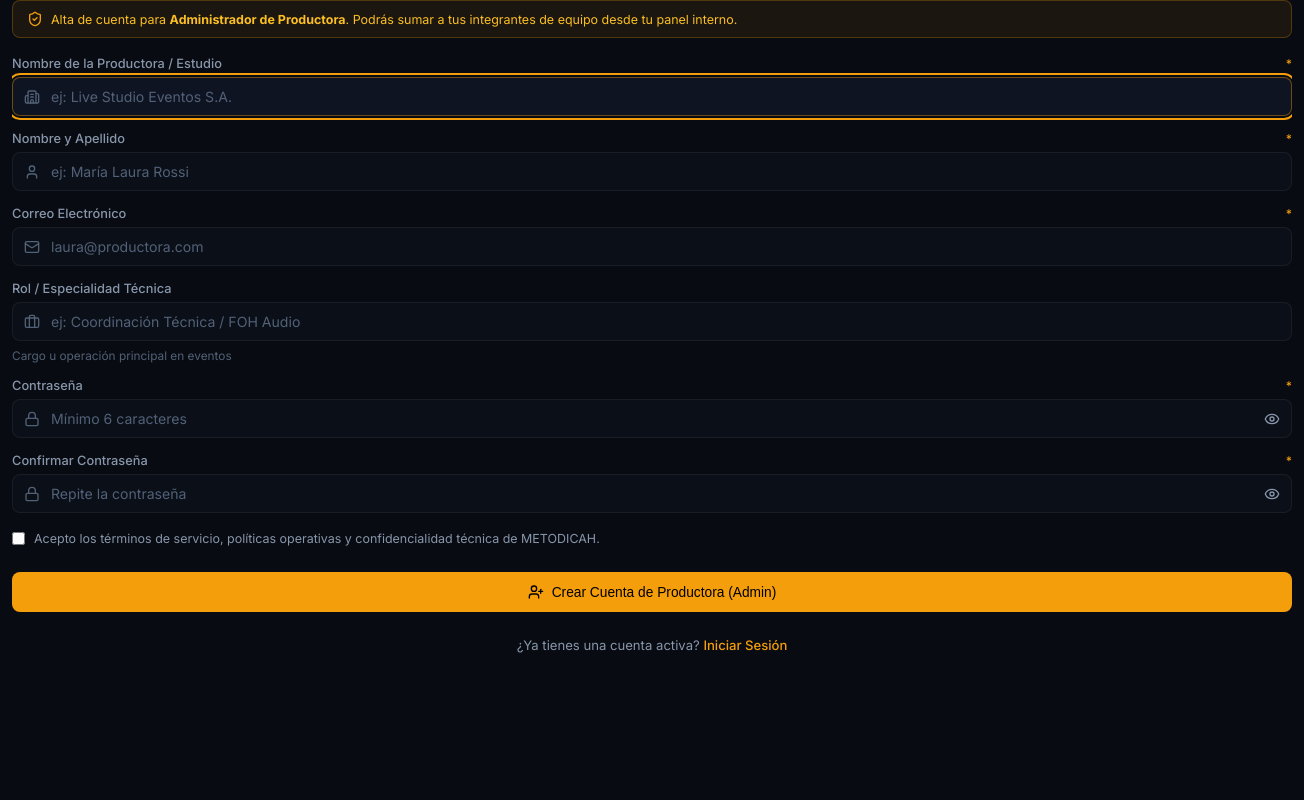
Test: Auth UI Components Suite › RegisterForm › muestra error si no se aceptan los términos y condiciones
In the field labelled "Nombre de la Productora / Estudio *": (652, 96) x1=12 y1=77 x2=1292 y2=116, type "Live Producciones S.A."
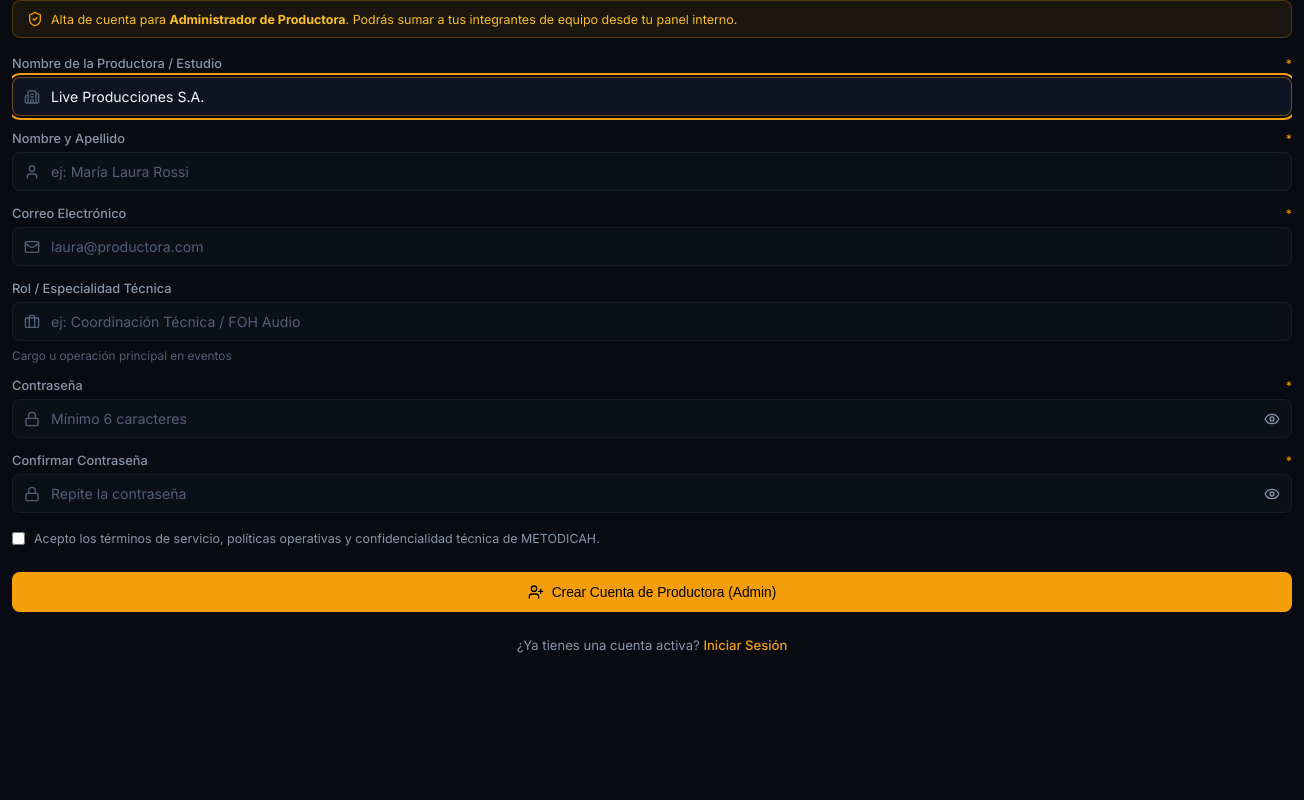
In the field labelled "Nombre y Apellido *": (652, 172) x1=12 y1=152 x2=1292 y2=191, type "Laura Productora"
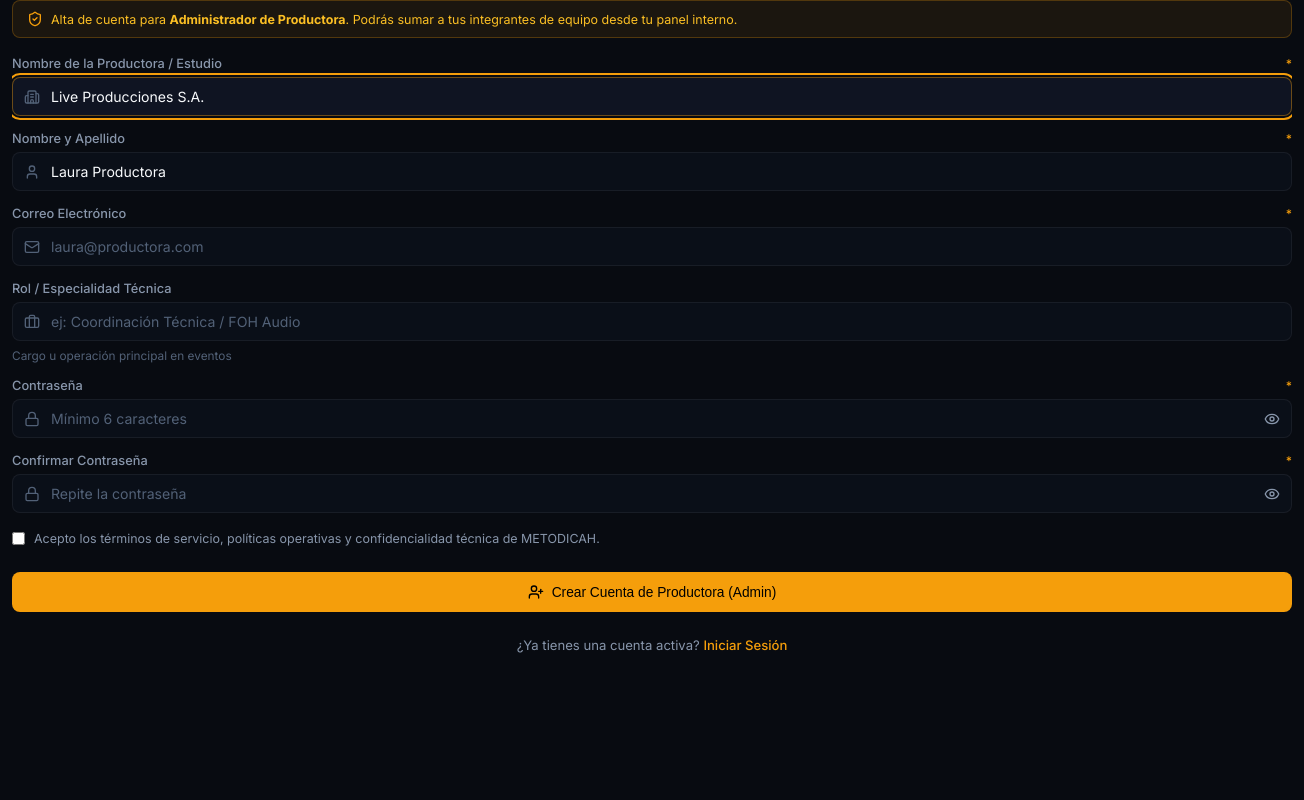
In the field labelled "Correo Electrónico *": (652, 246) x1=12 y1=227 x2=1292 y2=266, type "laura@eventos.com"
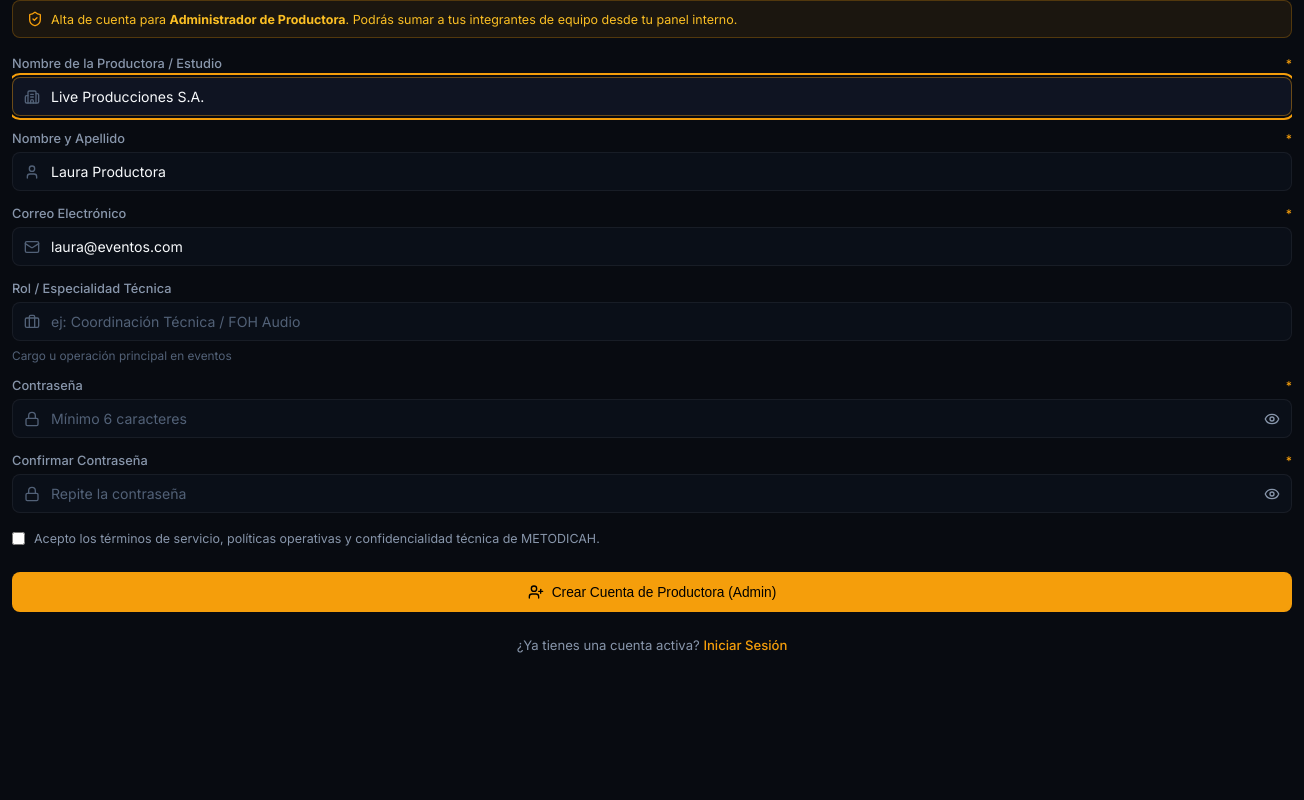
In the password field labelled "Contraseña *": (652, 418) x1=12 y1=399 x2=1292 y2=438, type "password123"
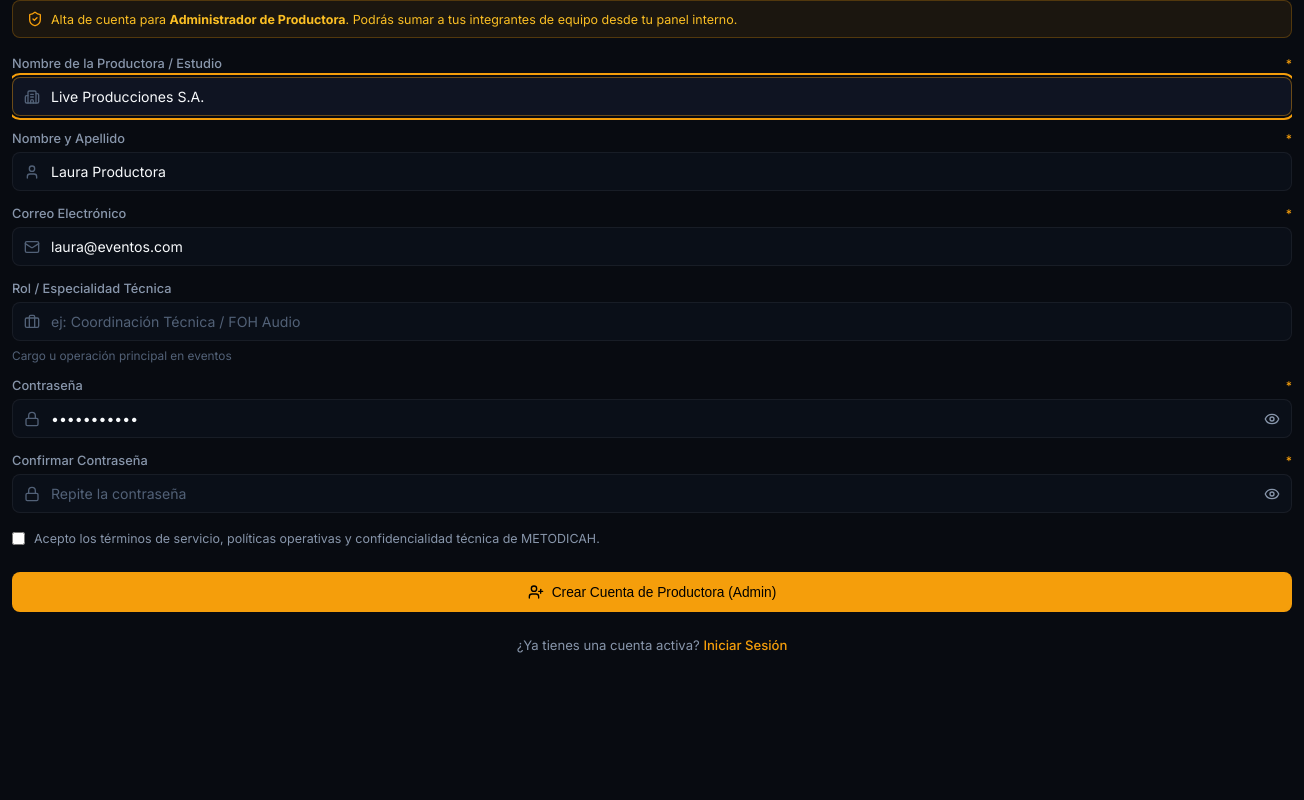
In the password field labelled "Confirmar Contraseña *": (652, 494) x1=12 y1=474 x2=1292 y2=513, type "password123"
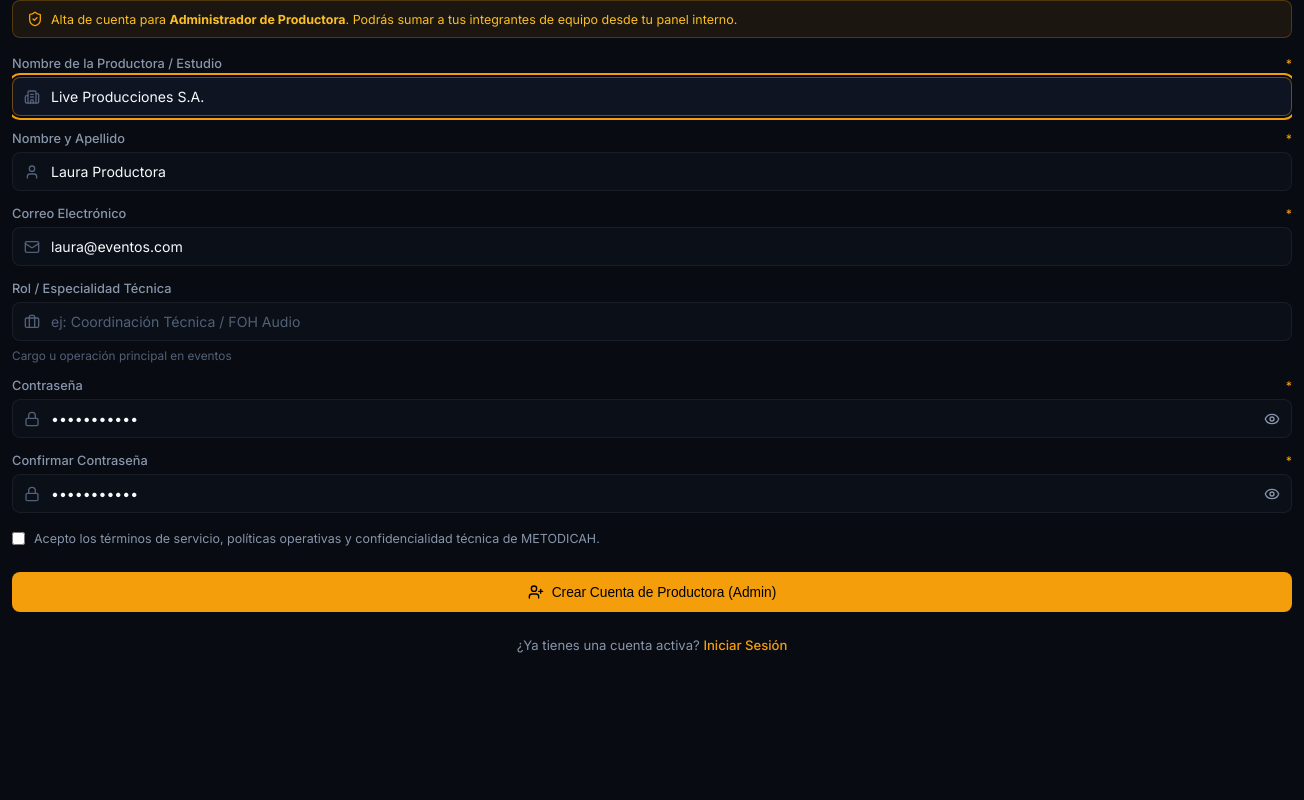
Click the button "Crear Cuenta de Productora (Admin)": click(652, 592) x1=12 y1=572 x2=1292 y2=612
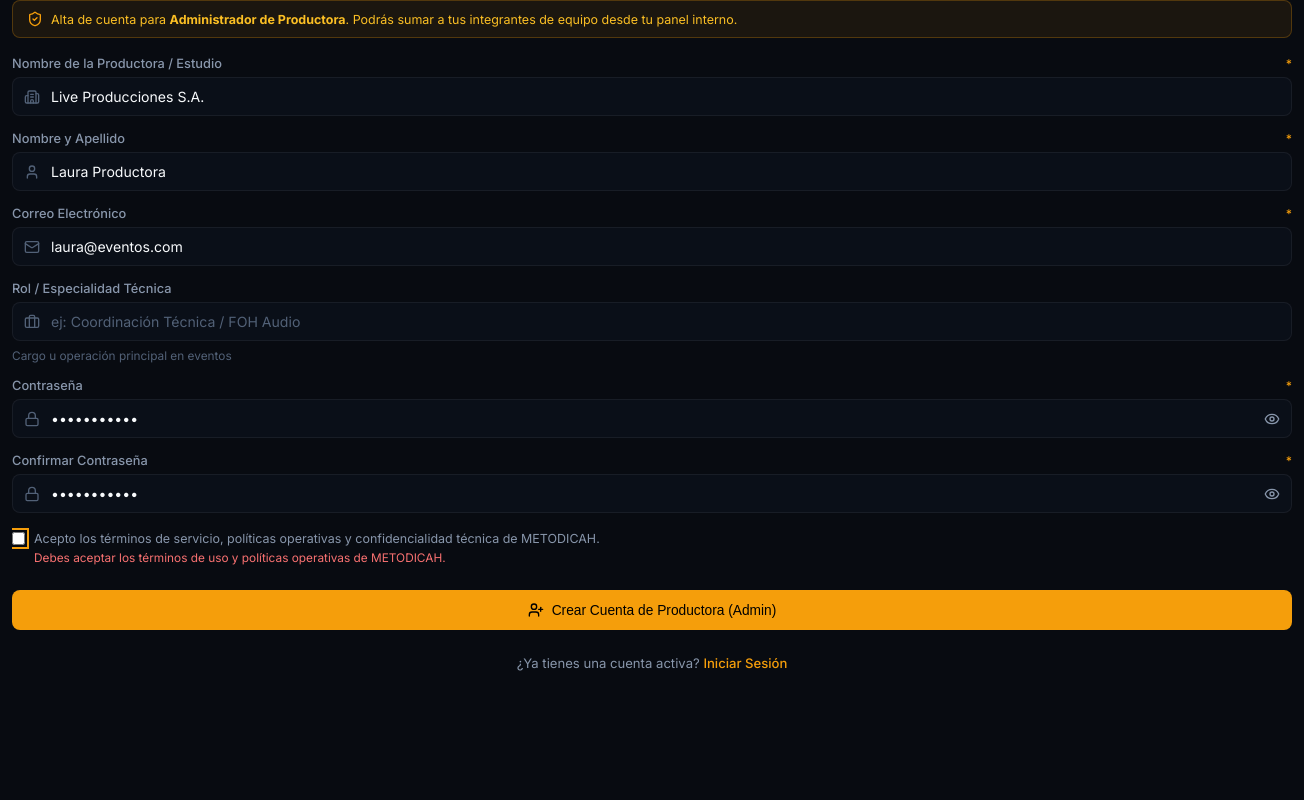
Now the text "Debes aceptar los términos de uso" is shown, box x1=34 y1=552 x2=446 y2=566
